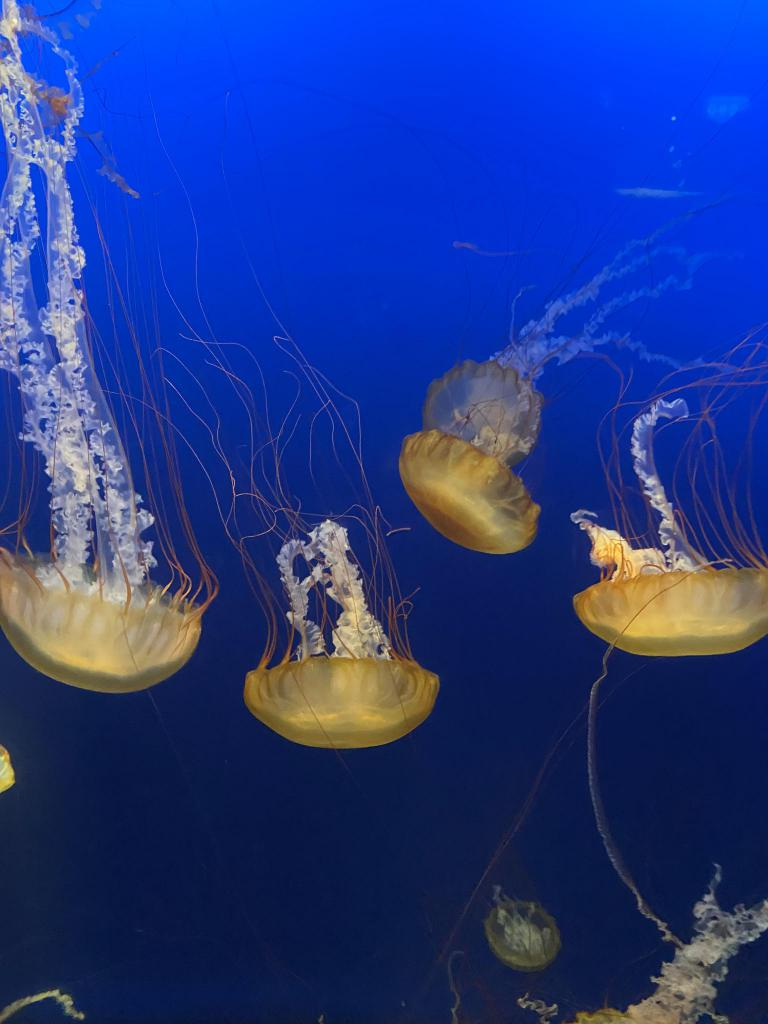jellyfish: (0, 529, 212, 693), (224, 640, 448, 750), (562, 551, 768, 665), (400, 426, 538, 556), (416, 365, 556, 461), (484, 898, 564, 966)
